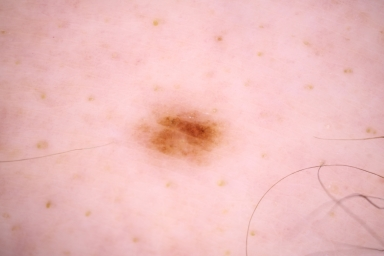melanoma: (139, 110, 225, 168)
